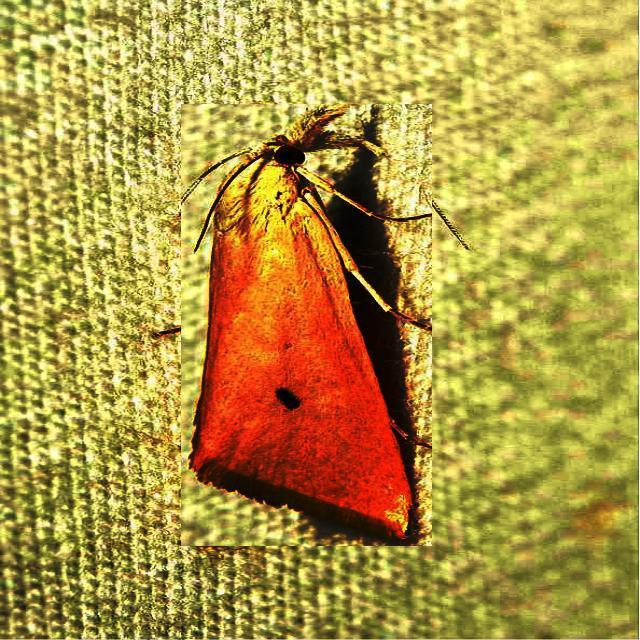stem-borer: (181, 104, 432, 546)
